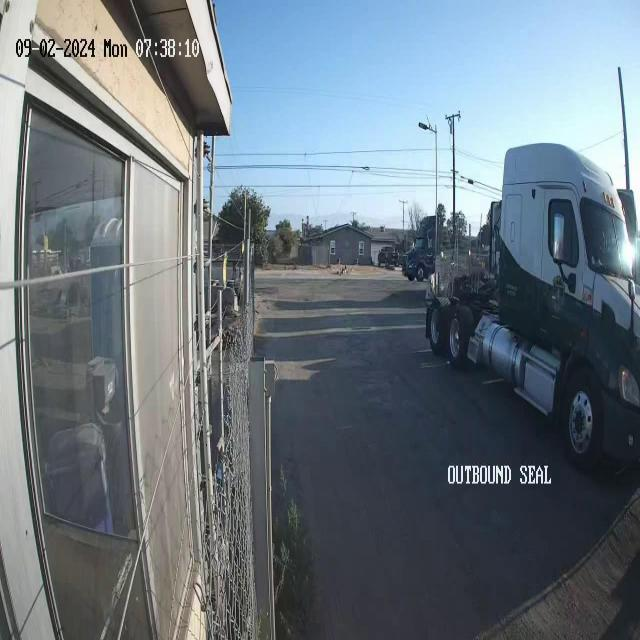BOBTAIL: (424, 141, 640, 464)
